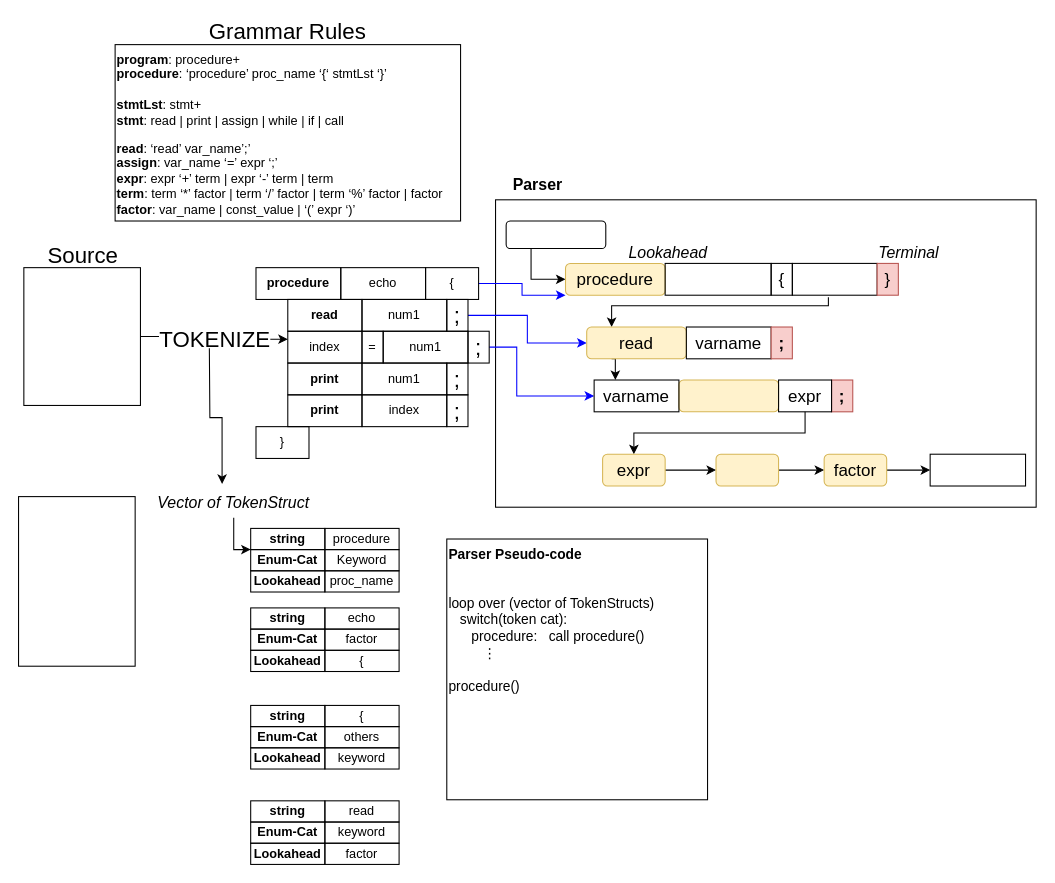
Image size: 1055x883. Some labels were removed from this diagram. The box of each missing label's shape, as (x1, y1, x2, y2) in pixels:
assign =: (678, 379, 779, 412)
Enum-Cat Start Keyword Terminal Operator var_name const_value others proc_name: (17, 496, 135, 666)
proc_name echo: (664, 262, 771, 295)
procedure echo { read num1; index = num1; print num1; print index; }: (23, 267, 140, 405)
Program: (505, 220, 606, 249)
stmtList: (791, 262, 877, 295)
term: (715, 453, 779, 486)
var_name: (929, 453, 1026, 486)
